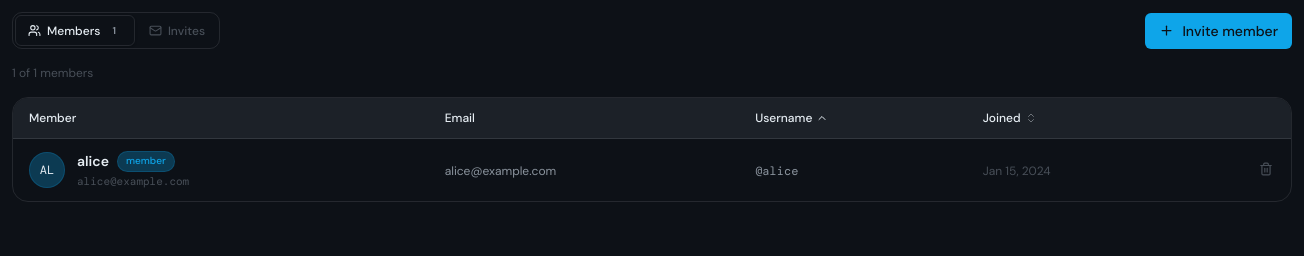
Scenario: MembersTab › invites tab › shows empty invites state
The width and height of the screenshot is (1304, 256).
Step 1. Click the button "Invites" → click(177, 31), box [137, 17, 217, 45]
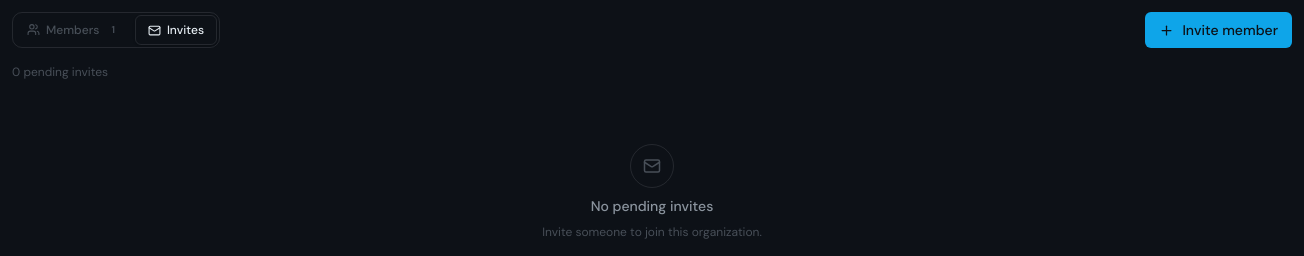
Now the text "No pending invites" is shown, box [591, 196, 713, 216]
